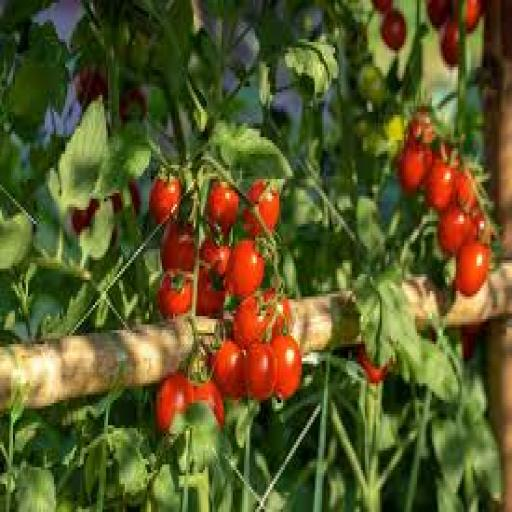tomato: (233, 289, 290, 346), (226, 241, 264, 299), (157, 373, 193, 433), (243, 180, 279, 237), (455, 241, 491, 296), (213, 339, 245, 400), (244, 342, 277, 400), (272, 336, 301, 400), (233, 297, 268, 349), (425, 157, 456, 212), (397, 143, 431, 193), (161, 222, 195, 271), (207, 182, 238, 235), (438, 205, 471, 254), (159, 272, 191, 318), (149, 177, 180, 223), (194, 381, 223, 428), (263, 289, 292, 335), (75, 68, 107, 109), (358, 62, 387, 106), (198, 269, 225, 316), (358, 345, 389, 383), (200, 238, 230, 276), (380, 9, 407, 50), (120, 87, 147, 123), (71, 199, 98, 235), (408, 110, 435, 145), (455, 171, 478, 212), (442, 20, 459, 67), (460, 325, 480, 360), (472, 208, 491, 243), (427, 0, 450, 27), (466, 0, 484, 33), (129, 180, 141, 212), (373, 0, 392, 13), (110, 194, 122, 212)
